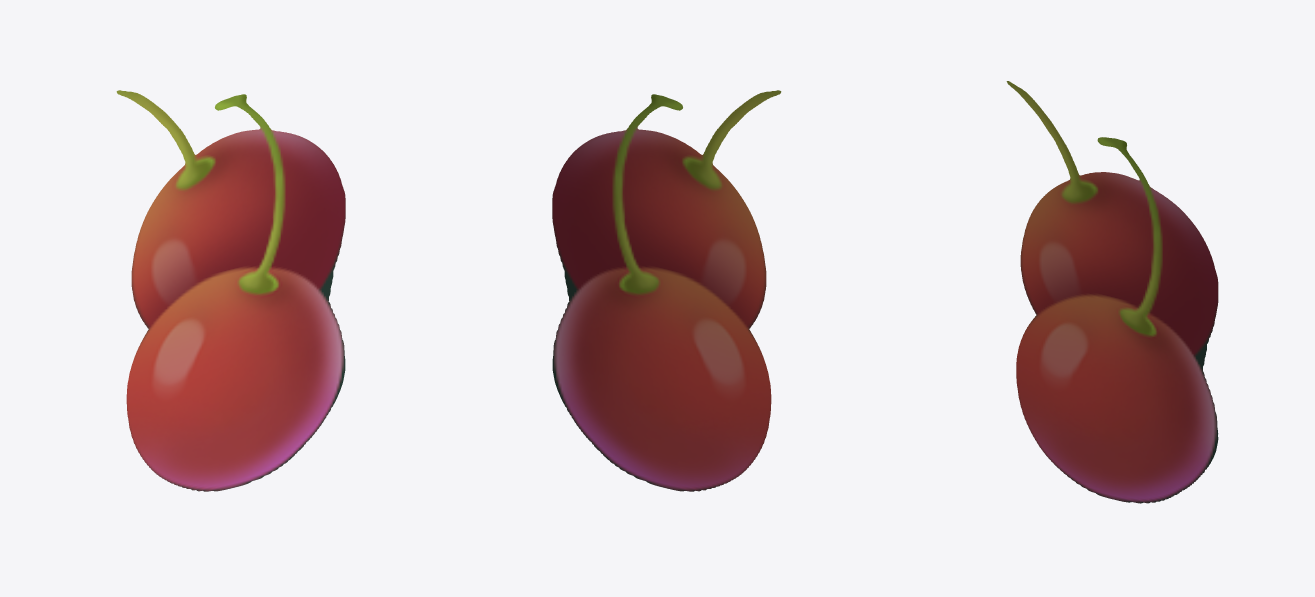
The model's file is 新字教学-第4课场景-汉字鼠-樱桃01.FBX.
The picture shows the model from 3 angles, left to right: view 1: azimuth 30°, elevation 25°; view 2: azimuth 150°, elevation 25°; view 3: azimuth 330°, elevation 25°; orthographic projection. The views are drawn at different scales.
Parts seen in each view (by area): view 1: 新字教学-第4课场景-汉字鼠-樱桃01; view 2: 新字教学-第4课场景-汉字鼠-樱桃01; view 3: 新字教学-第4课场景-汉字鼠-樱桃01.
Part boxes in pixels (left/top/right/bottom): 新字教学-第4课场景-汉字鼠-樱桃01: left=116, top=90, right=345, bottom=491; 新字教学-第4课场景-汉字鼠-樱桃01: left=552, top=90, right=781, bottom=491; 新字教学-第4课场景-汉字鼠-樱桃01: left=1006, top=81, right=1218, bottom=503.
Bounding box in the file's own units: 128 × 150 × 1.13e-05.
Materials: 1 (1 with a texture image).
